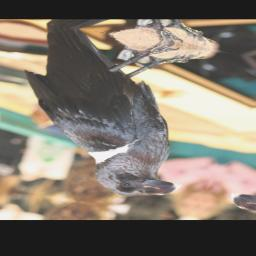Crow: (0, 24, 253, 205)
